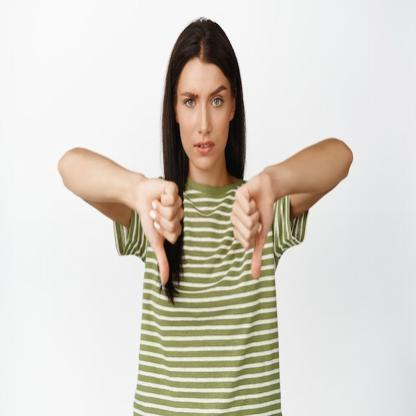thumb_down: (142, 172, 184, 288), (230, 178, 272, 283)
